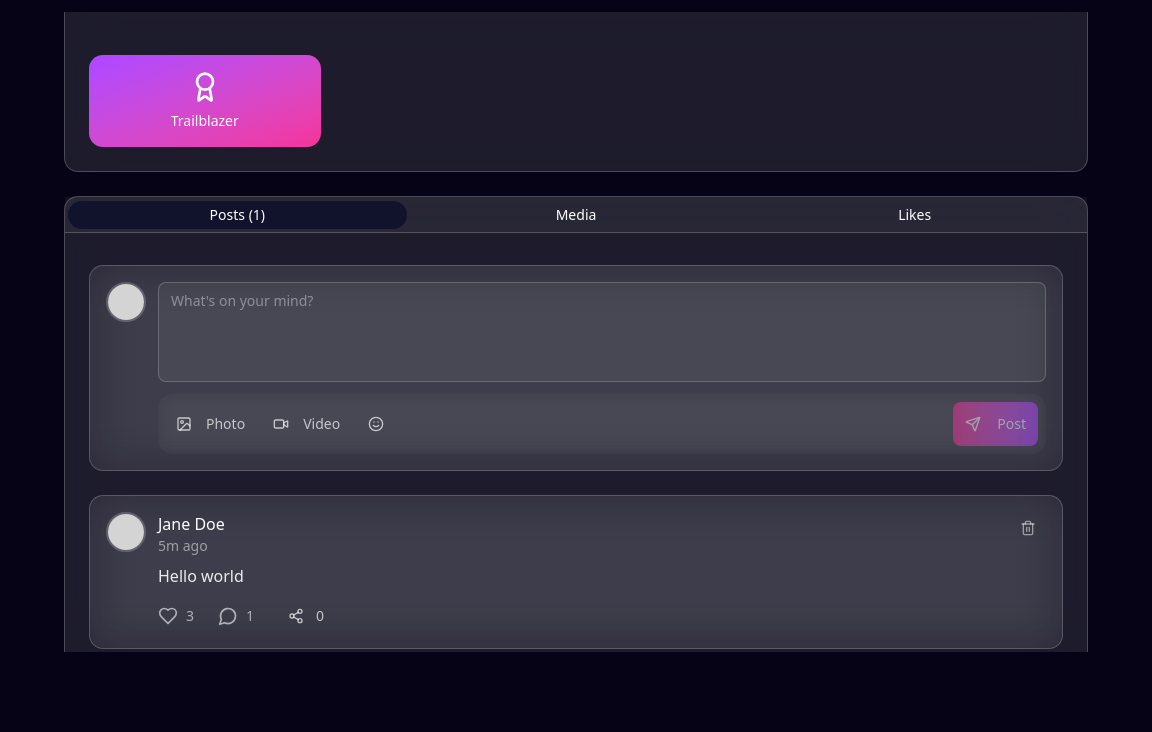
Test: Profile component › creates a new post and clears the composer
(page scrolled)
Type "Hello from tests" into the text box with placeholder "What's on your mind?".
click(602, 332); type("Hello from tests")  # box [158,282,1046,382]
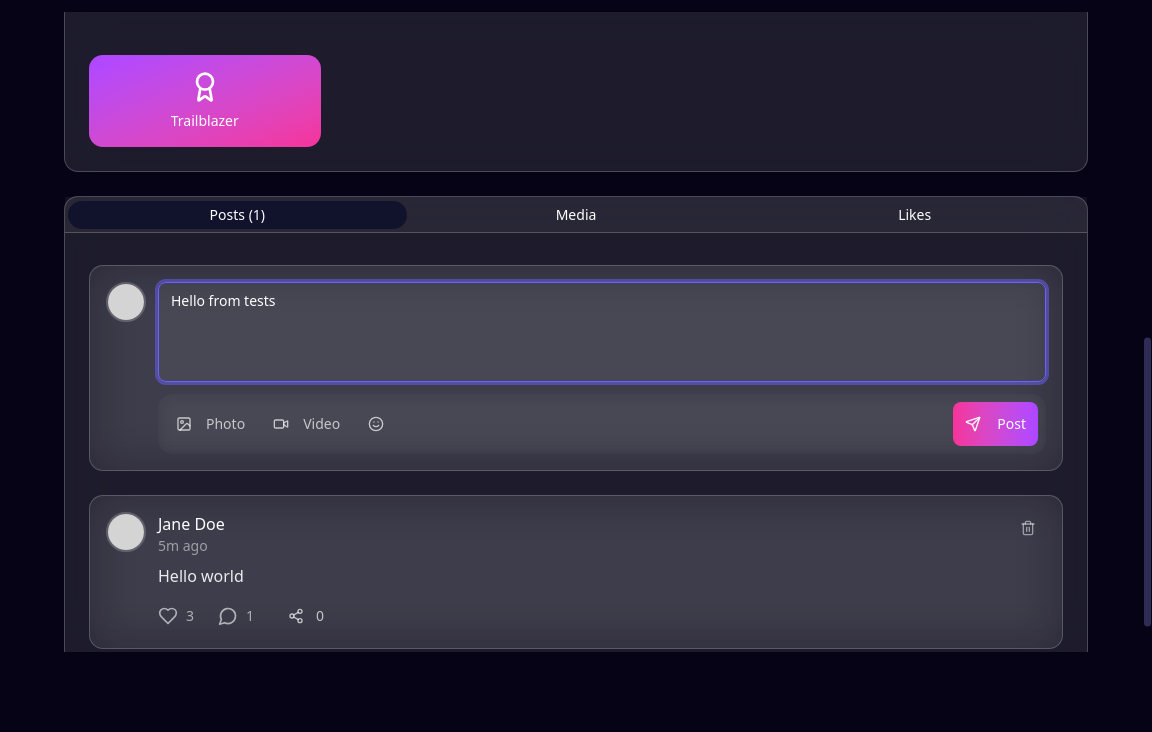
Expected: the button "Post" is enabled
Click the button "Post".
click(996, 424)  # box [953,402,1038,446]
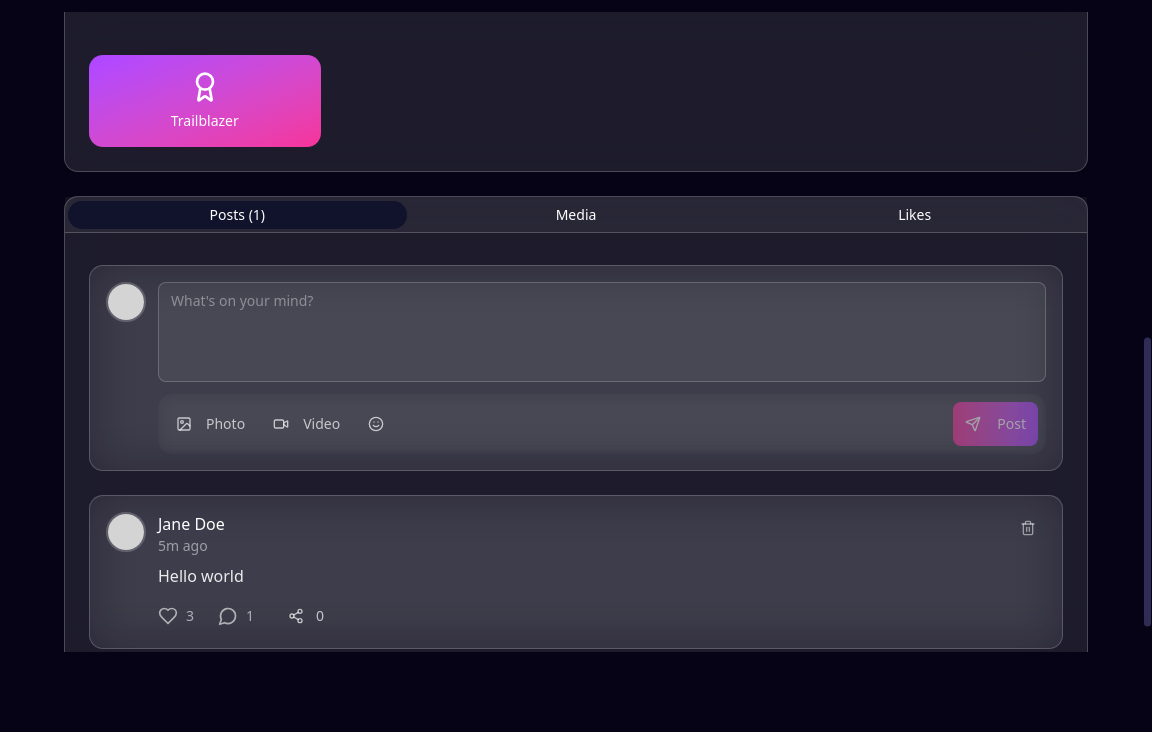
Expected: the text box with placeholder "What's on your mind?" is empty, [158,282,1046,382]
Expected: the button "Post" is disabled, [953,402,1038,446]
